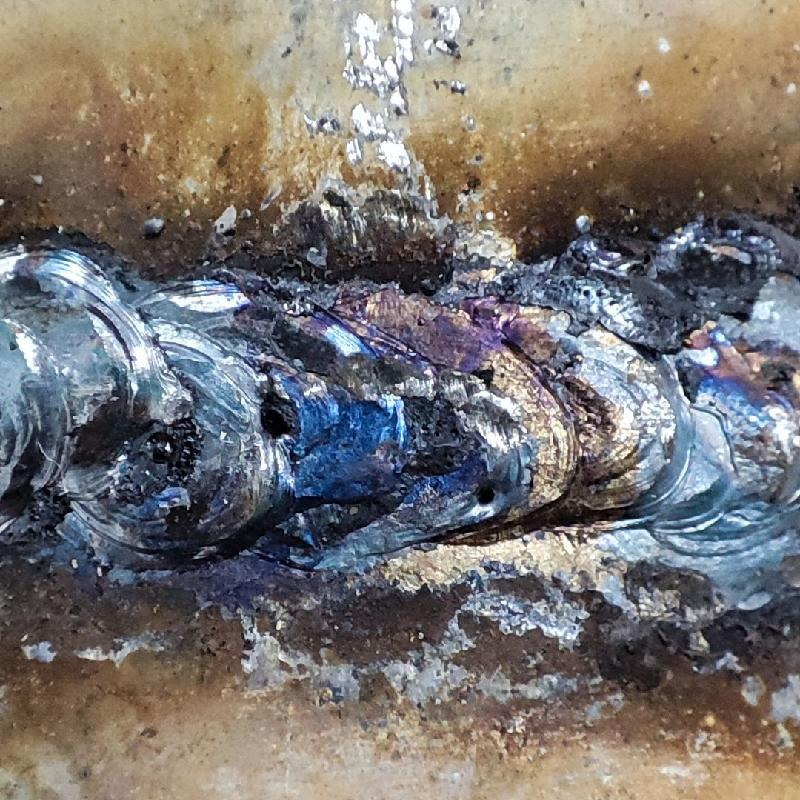Surface_pores: (241, 389, 315, 455), (452, 464, 519, 521)
good: (0, 235, 799, 543)
